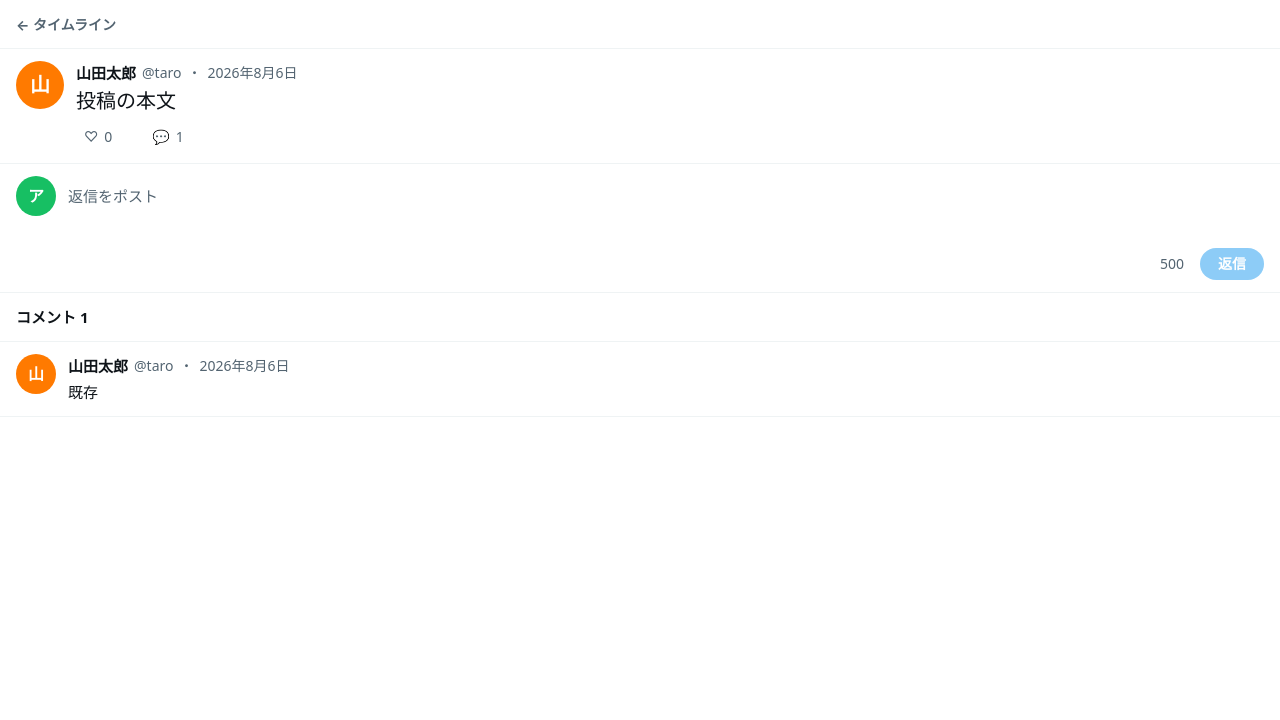
Test: PostDetailPage › 状態遷移: コメントを投稿すると末尾に足され、コメント数が 1 増える
The width and height of the screenshot is (1280, 720).
Expected: the text "既存" is shown, left=68, top=382, right=98, bottom=402
Step 1. Type "追加分" into the text box with placeholder "返信をポスト" → {"x": 666, "y": 208}, box left=68, top=176, right=1264, bottom=240
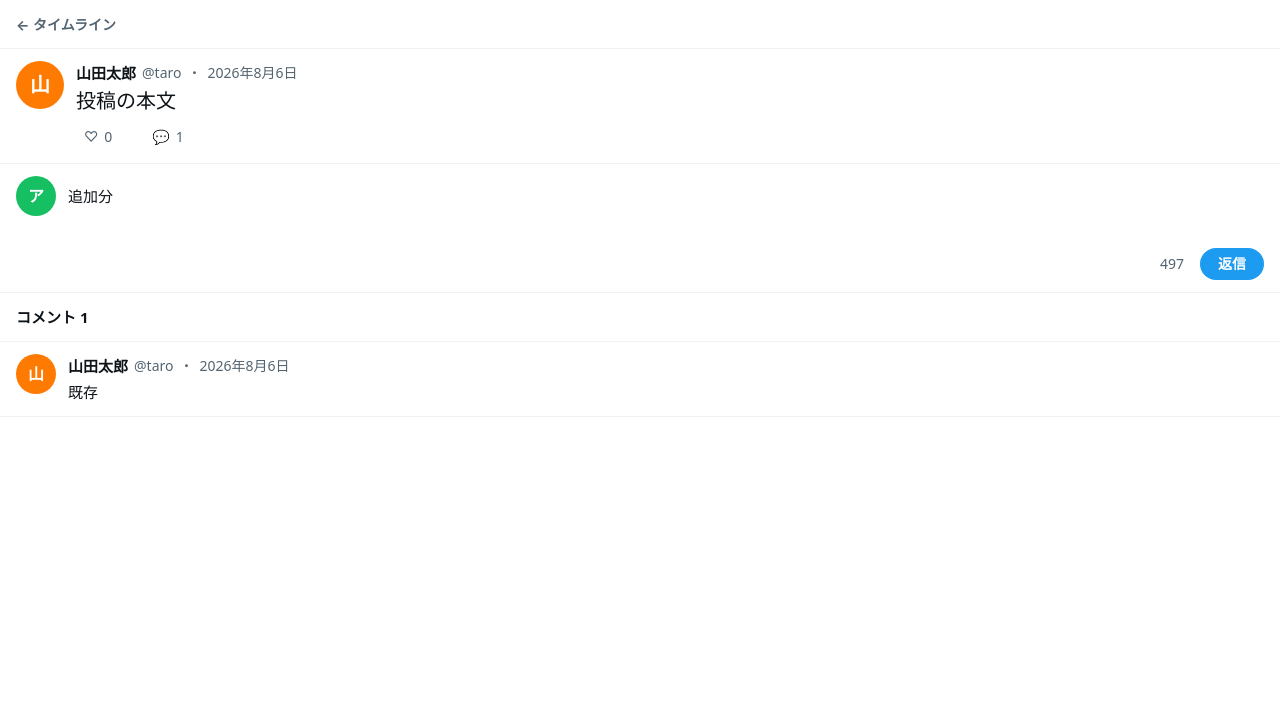
Step 2. Click the button "返信" → {"x": 1232, "y": 264}, box left=1200, top=248, right=1264, bottom=280
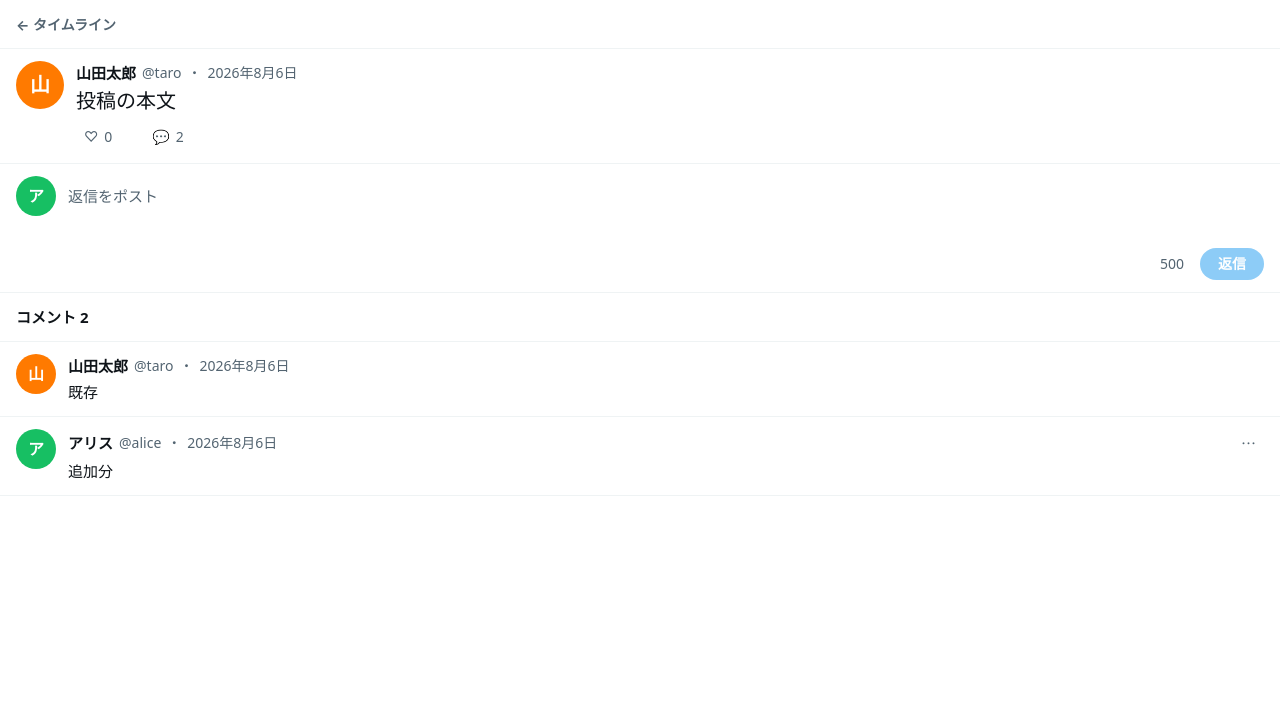
Result: the text "追加分" is shown at left=68, top=461, right=113, bottom=481
Result: the heading "コメント 2" is shown at left=0, top=293, right=1279, bottom=342
Result: the element showing "ア アリス @alice ・ 2026年8月6日 ⋯ 追加分" is shown at left=0, top=417, right=1279, bottom=496
